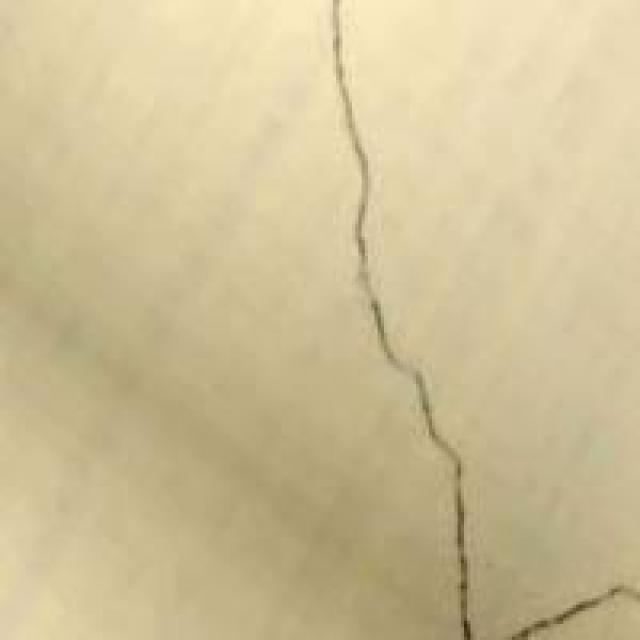crack: (291, 0, 637, 637)
